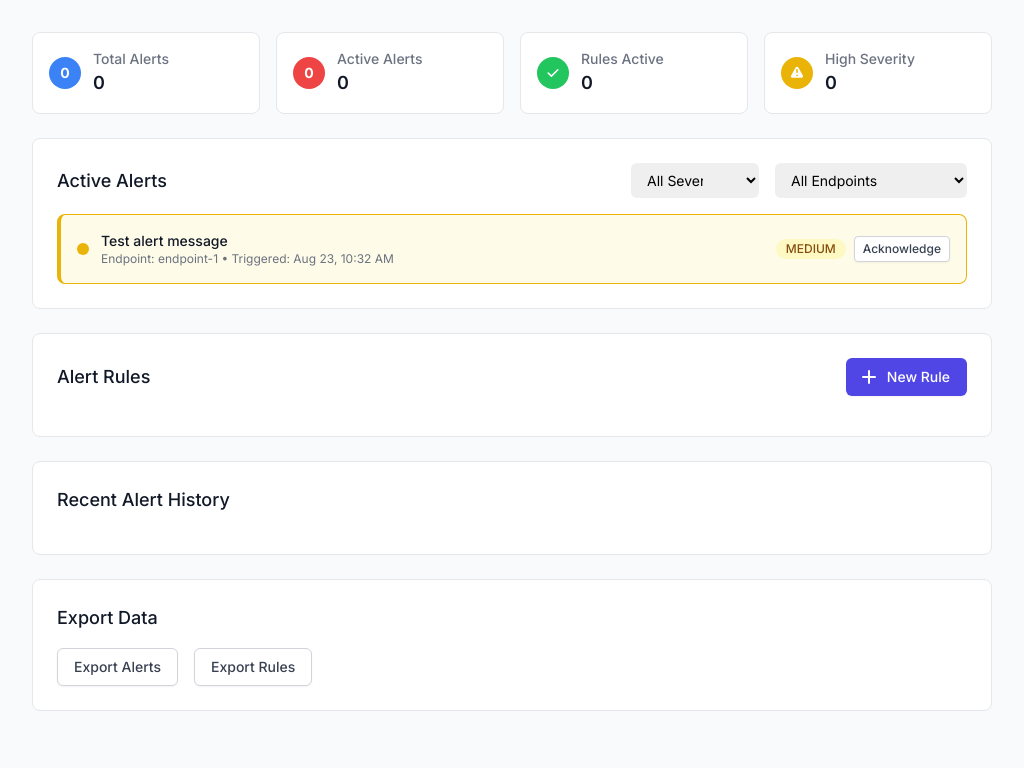
it: AlertDashboard › Alert Actions › should show acknowledge confirmation dialog
Click the button with test id "acknowledge-button" at point(902, 249), box top-left (854, 236), bottom-right (950, 262)
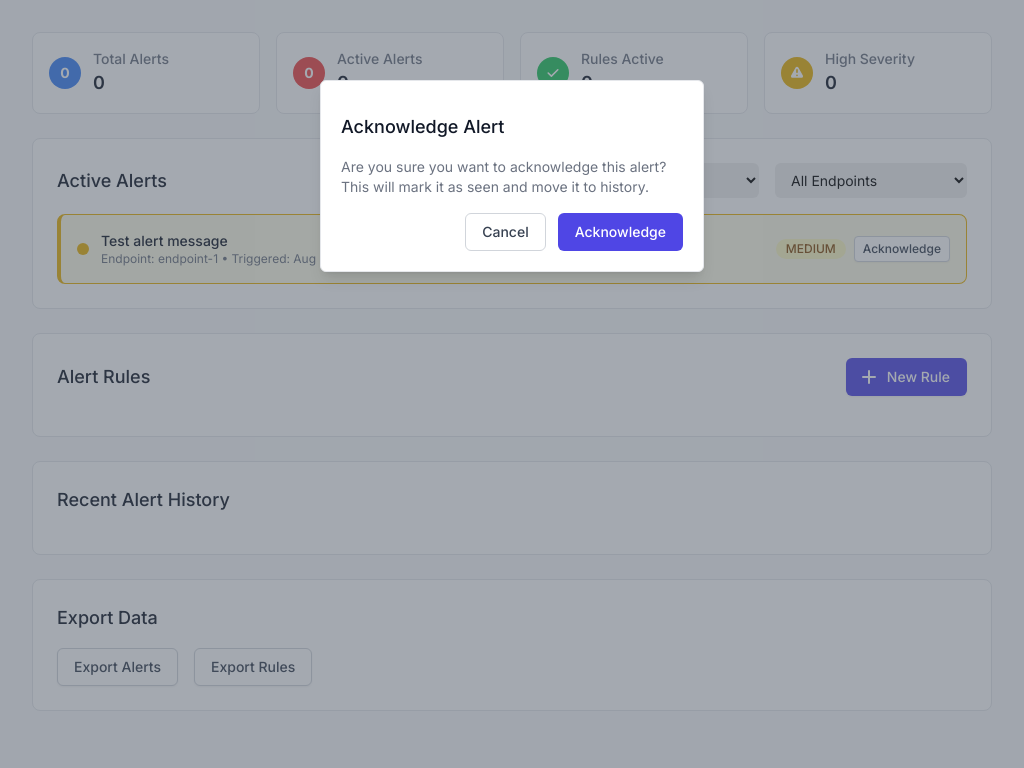
Expected: the text "Acknowledge Alert" is shown, top-left (341, 116), bottom-right (504, 137)
Now the element with test id "acknowledge-dialog" is shown
